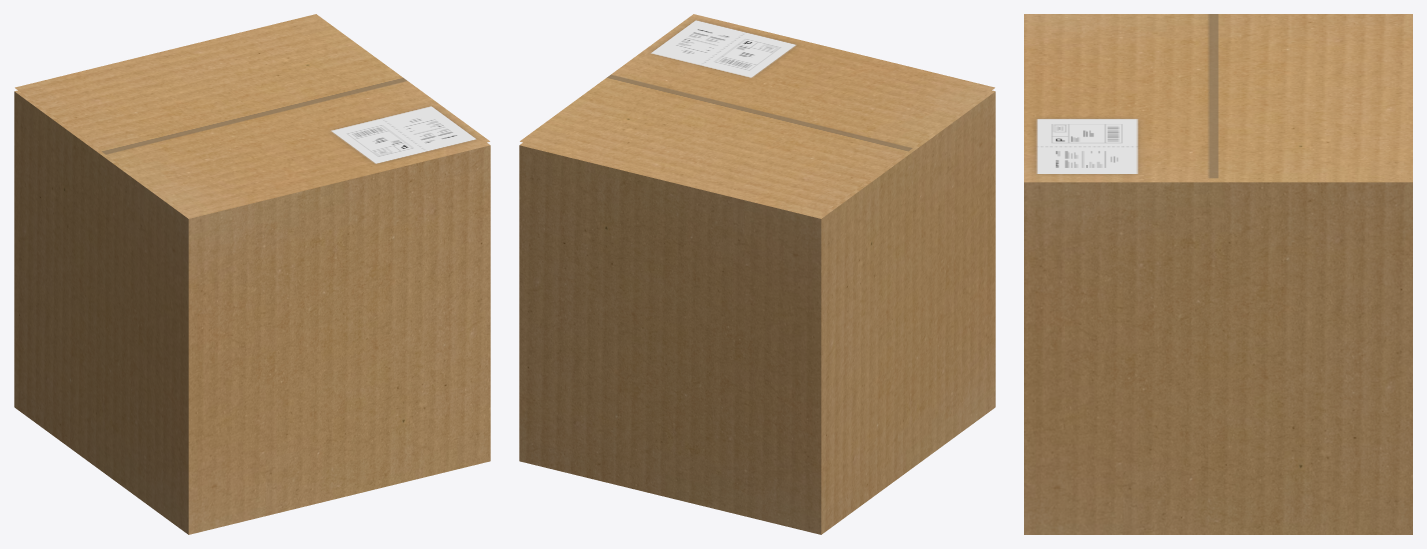
Rendered from BoxCard.fbx.
The picture shows the model from 3 angles, left to right: view 1: azimuth 30°, elevation 25°; view 2: azimuth 150°, elevation 25°; view 3: azimuth 270°, elevation 25°; orthographic projection. The views are drawn at different scales.
Visible parts, largest first — view 1: Cube.012, Cube.013; view 2: Cube.012, Cube.013; view 3: Cube.012, Cube.013.
Boxes of the visible parts, x1=… form: Cube.012: x1=14, y1=90, x2=490, y2=534; Cube.013: x1=15, y1=14, x2=489, y2=215; Cube.012: x1=519, y1=90, x2=995, y2=534; Cube.013: x1=520, y1=14, x2=994, y2=215; Cube.012: x1=1024, y1=178, x2=1412, y2=534; Cube.013: x1=1024, y1=14, x2=1412, y2=178.
Bounding box in the file's own units: 200 × 202 × 200.
